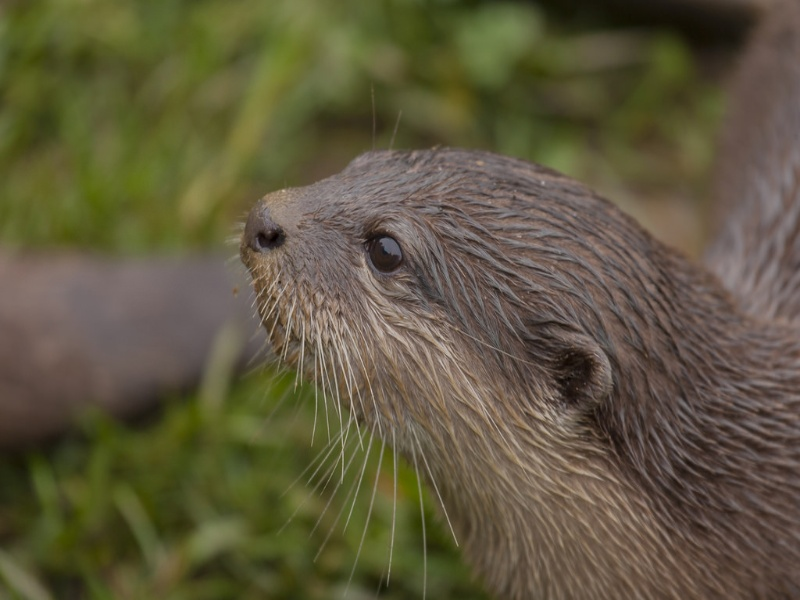minkish: (217, 119, 734, 524)
